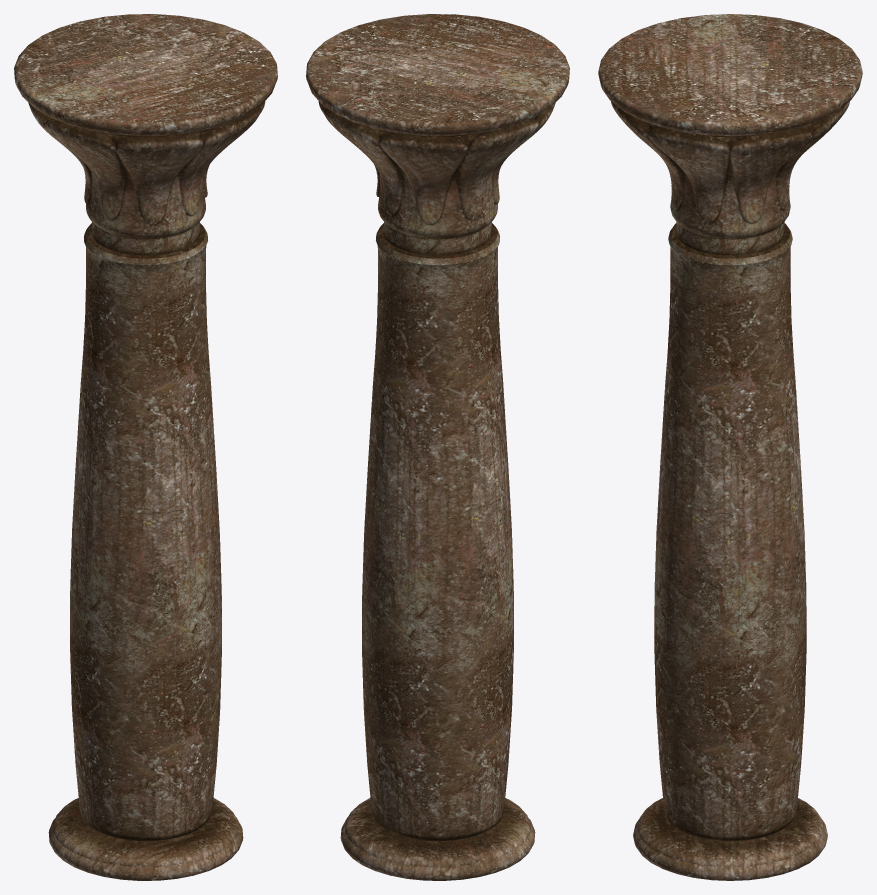
Rendered from egypt_column.glb.
The picture shows the model from 3 angles, left to right: view 1: azimuth 30°, elevation 25°; view 2: azimuth 150°, elevation 25°; view 3: azimuth 270°, elevation 25°; orthographic projection.
Visible parts, largest first — view 1: EgyptColumn_0; view 2: EgyptColumn_0; view 3: EgyptColumn_0.
Boxes of the visible parts, bbox=[...] form: EgyptColumn_0: bbox=[14, 14, 277, 880]; EgyptColumn_0: bbox=[306, 14, 569, 880]; EgyptColumn_0: bbox=[598, 14, 862, 880].
Size of the model in its own units: 2.17 by 6.98 by 2.17.
Materials: 1 (1 with a texture image).
